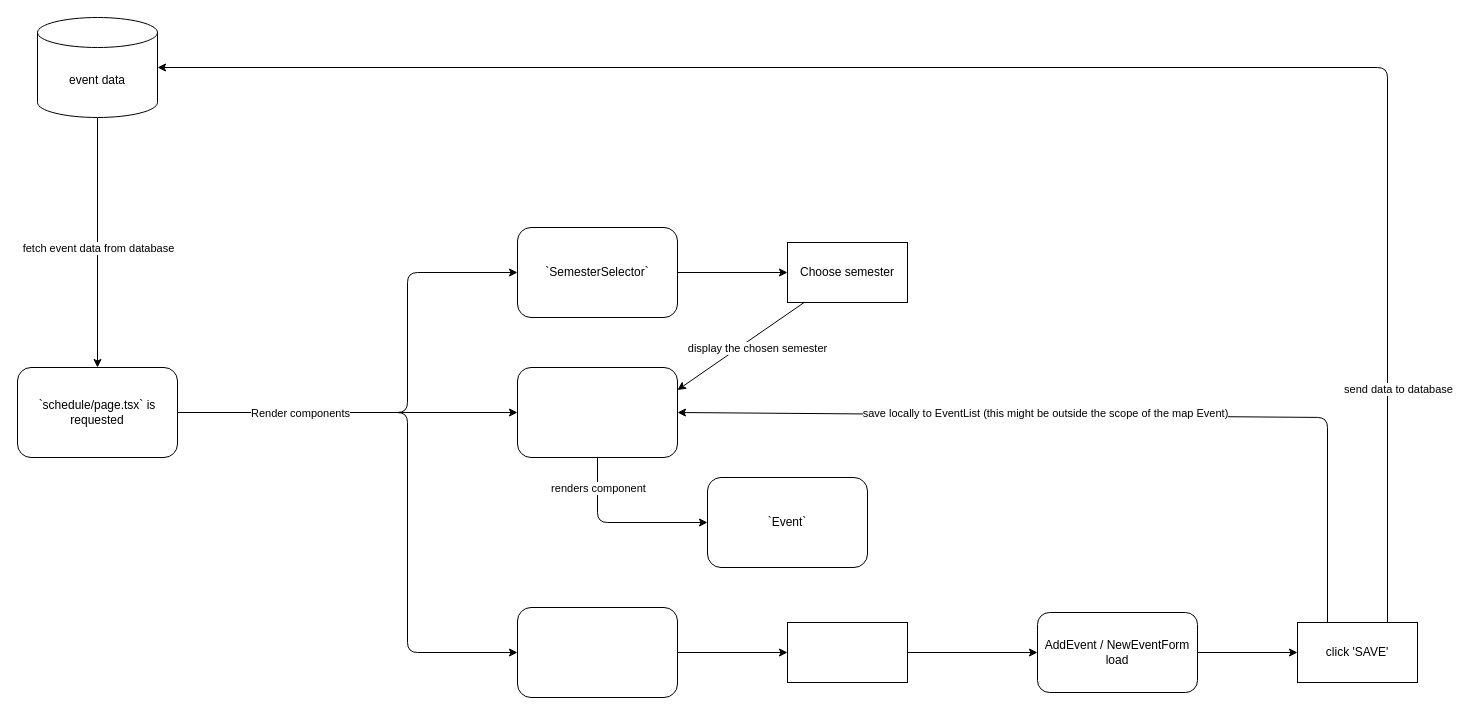
This 1470x715 diagram has some shape labels left out. The shapes that lost their labels are listed below. From the top down, each one's centre as x and y in pixels, then its label:
the point at 597,412: `EventList`
the point at 597,652: `AddEvent`
the point at 847,652: click 'Add Event'
